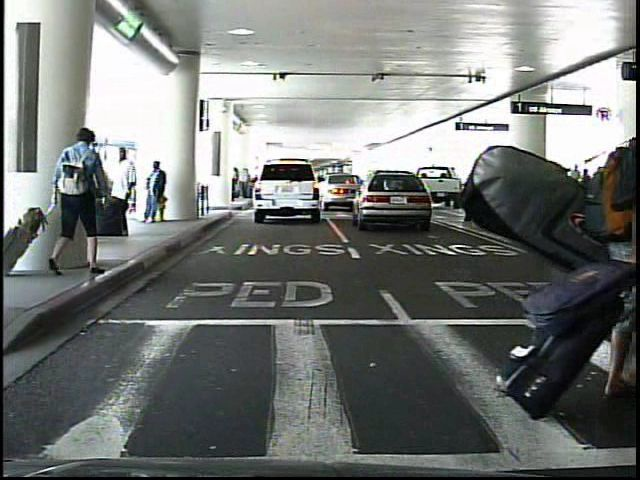person: (53, 126, 102, 277), (106, 146, 134, 239), (144, 158, 171, 225), (564, 164, 579, 213), (578, 167, 592, 212)
